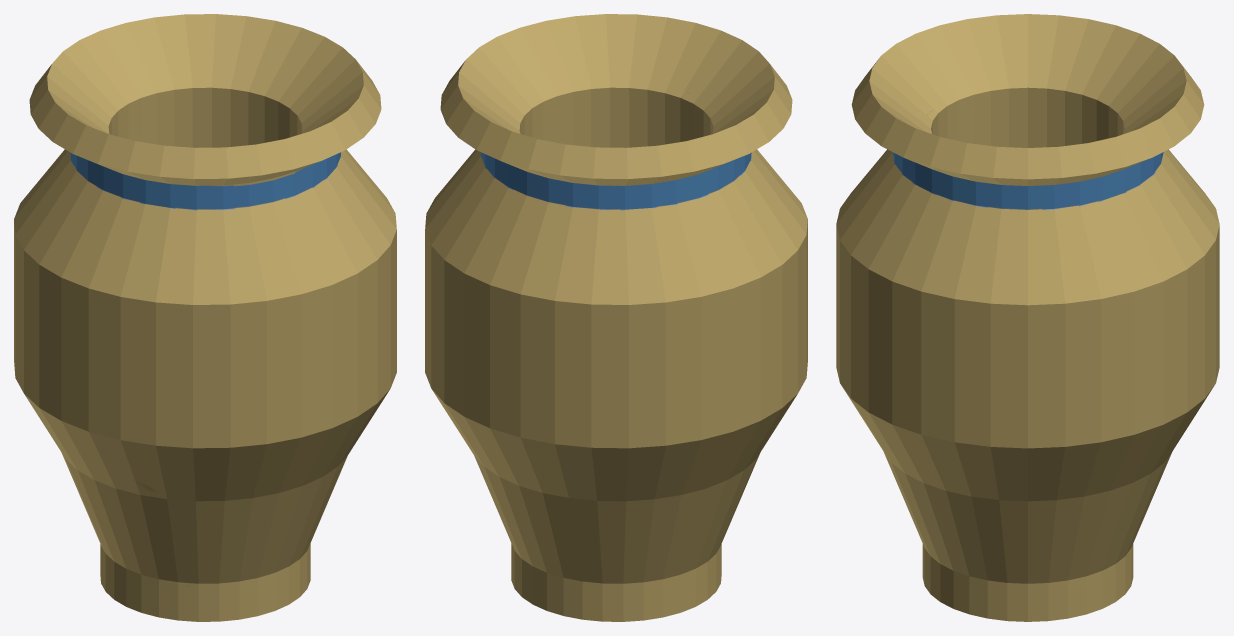
The model's file is pot_1_break.glb.
The picture shows the model from 3 angles, left to right: view 1: azimuth 30°, elevation 25°; view 2: azimuth 150°, elevation 25°; view 3: azimuth 270°, elevation 25°; orthographic projection.
Visible parts, largest first — view 1: Cube, Cube_cell.011, Cube_cell.001, Cube_cell.006, Cube_cell.003, Cube_cell.018, Cube_cell.016, Cube_cell.007, Cube_cell.012, Cube_cell.002, Cube_cell.008, Cube_cell.014 (+5 smaller); view 2: Cube, Cube_cell, Cube_cell.015, Cube_cell.010, Cube_cell.006, Cube_cell.017, Cube_cell.007, Cube_cell.014, Cube_cell.003, Cube_cell.008, Cube_cell.018; view 3: Cube, Cube_cell.017, Cube_cell.013, Cube_cell.006, Cube_cell.005, Cube_cell.016, Cube_cell.009, Cube_cell.012, Cube_cell.011, Cube_cell, Cube_cell.010, Cube_cell.003 (+1 smaller).
Part boxes in pixels (x1,y1,x2,y2): Cube: [14, 14, 396, 621]; Cube_cell.011: [202, 225, 387, 442]; Cube_cell.001: [63, 374, 310, 548]; Cube_cell.006: [260, 72, 396, 273]; Cube_cell.003: [88, 133, 289, 393]; Cube_cell.018: [43, 379, 232, 592]; Cube_cell.016: [311, 263, 396, 475]; Cube_cell.007: [86, 510, 205, 621]; Cube_cell.012: [212, 538, 312, 621]; Cube_cell.002: [202, 262, 271, 391]; Cube_cell.008: [43, 157, 138, 389]; Cube_cell.014: [29, 64, 105, 148]; Cube: [425, 14, 807, 621]; Cube_cell: [450, 104, 721, 404]; Cube_cell.015: [630, 354, 784, 559]; Cube_cell.010: [425, 367, 635, 619]; Cube_cell.006: [518, 14, 717, 147]; Cube_cell.017: [425, 156, 553, 386]; Cube_cell.007: [592, 532, 726, 621]; Cube_cell.014: [648, 92, 777, 177]; Cube_cell.003: [684, 30, 797, 222]; Cube_cell.008: [675, 97, 806, 355]; Cube_cell.018: [692, 369, 806, 539]; Cube: [836, 14, 1219, 621]; Cube_cell.017: [994, 175, 1213, 434]; Cube_cell.013: [921, 351, 1120, 524]; Cube_cell.006: [853, 75, 986, 334]; Cube_cell.005: [946, 128, 1149, 354]; Cube_cell.016: [839, 306, 962, 476]; Cube_cell.009: [880, 446, 1087, 571]; Cube_cell.012: [922, 541, 1127, 619]; Cube_cell.011: [836, 178, 887, 377]; Cube_cell: [1078, 41, 1203, 184]; Cube_cell.010: [1083, 385, 1191, 590]; Cube_cell.003: [861, 42, 941, 115].
Bounding box in the file's own units: 1.46 × 2.08 × 1.46.
Materials: 1 (1 with a texture image).
